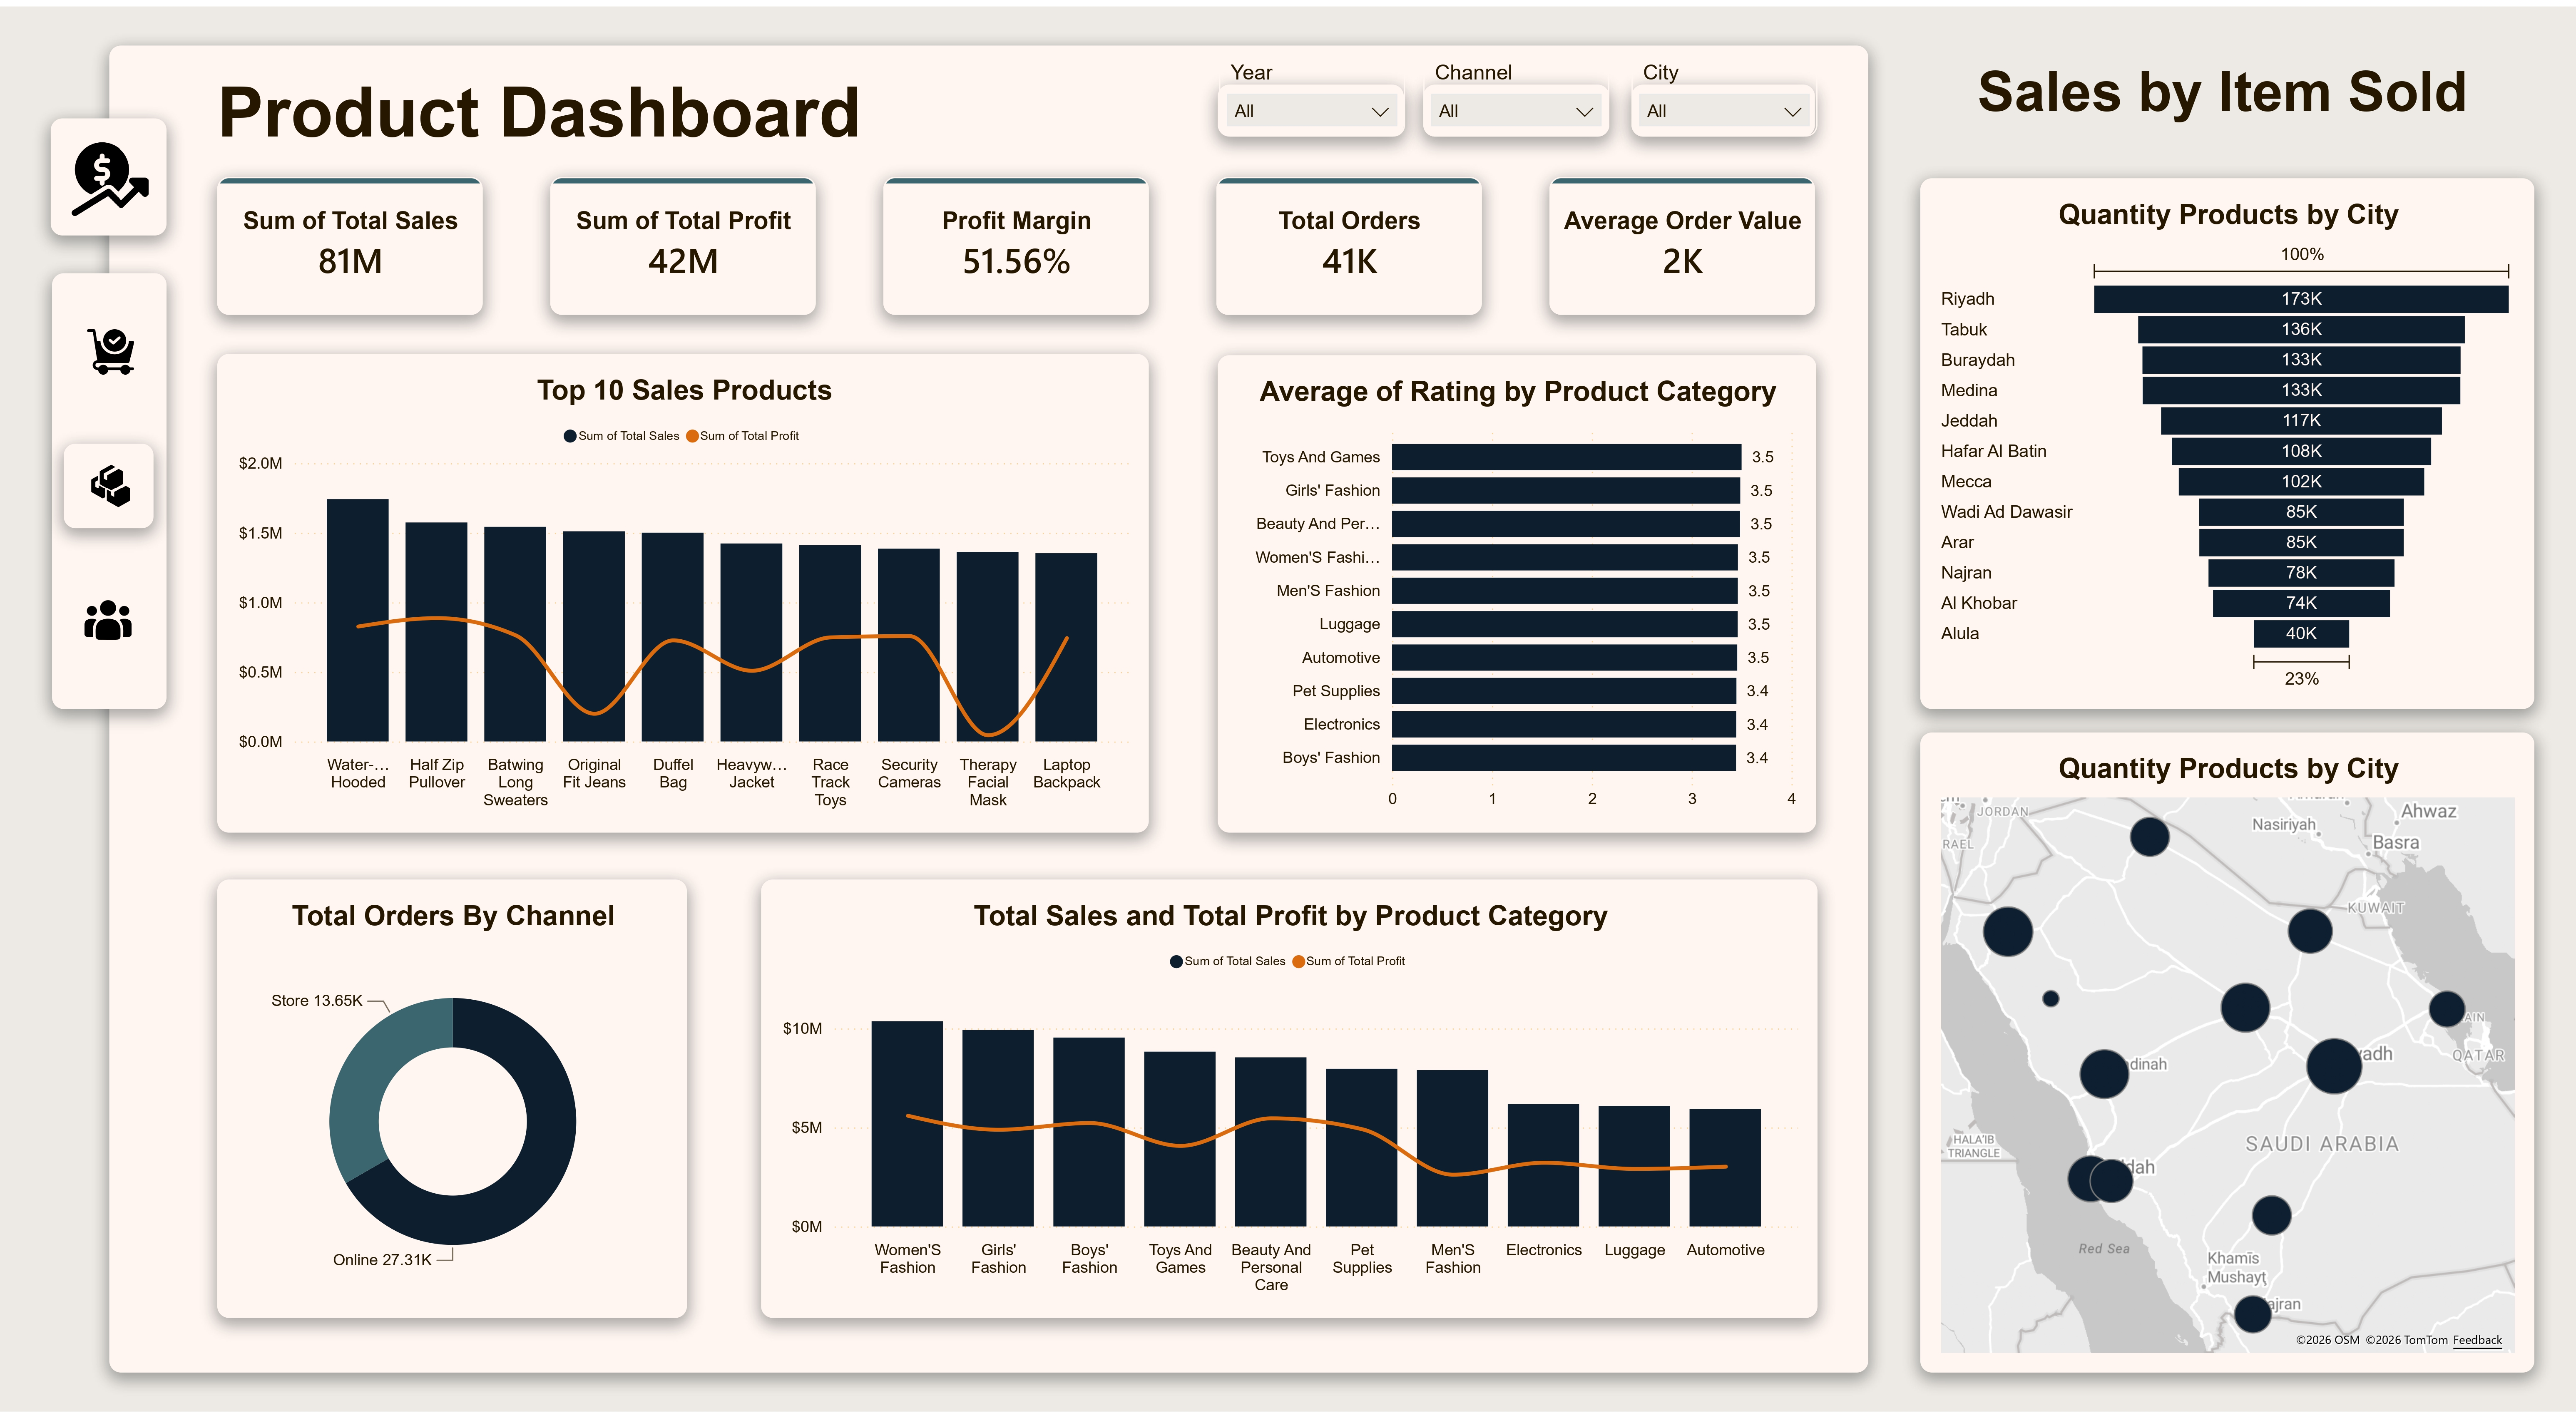

The dashboard page shown, as its layout file describes it:
{"tool":"powerbi","page":{"name":"Product Dashboard","canvas":[1980,1080],"ordinal":1},"visuals":[{"type":"shape","box":[84,30,1352,1020],"z":0},{"type":"shape","box":[39.4,86.4,88.9,90.2],"z":1000},{"type":"shape","box":[40,205.5,88.1,334.9],"z":2000},{"type":"shape","box":[935.7,60,142.9,40],"z":3000},{"type":"shape","box":[1254.3,60,141.4,40],"z":4000},{"type":"funnel","title":"Quantity Products by City","fields":{"Category":["Sales Database.City"],"Y":["Sum(Sales Database.Quantity)"]},"box":[1475.7,132.1,472.3,408.3],"z":5000},{"type":"clusteredBarChart","fields":{"Category":["Products Database.Product Category"],"Y":["Avg(Sales Database.Rating)"]},"box":[936.4,268.1,460,367.2],"z":6000},{"type":"donutChart","title":"Total Orders By Channel","fields":{"Category":["Sales Database.Channel"],"Y":["Count(Sales Database.Invoice ID)"]},"box":[167,671,361.1,337],"z":7000},{"type":"lineClusteredColumnComboChart","title":"Total Sales and Total Profit by Product Category","fields":{"Category":["Products Database.Product Category"],"Y":["Sum(Sales Database.Total Sales)"],"Y2":["Sum(Sales Database.Total Profit)"]},"box":[585.3,671,812.5,337],"z":8000},{"type":"cardVisual","fields":{"Data":["Sum(Sales Database.Total Sales)"]},"box":[167.1,131.4,204.3,105.7],"z":9000},{"type":"cardVisual","fields":{"Data":["Meashers.Average Order Value"]},"box":[1191.4,131.4,204.3,105.7],"z":10000},{"type":"cardVisual","fields":{"Data":["Sum(Sales Database.Total Profit)"]},"box":[423.2,131.4,204.3,105.7],"z":11000},{"type":"cardVisual","fields":{"Data":["Meashers.Profit Margin"]},"box":[679.3,131.4,204.3,105.7],"z":12000},{"type":"cardVisual","fields":{"Data":["Meashers.Total Orders"]},"box":[935.4,131.4,204.3,105.7],"z":13000},{"type":"azureMap","title":"Quantity Products by City","fields":{"Category":["Sales Database.City"],"Size":["Sum(Sales Database.Quantity)"]},"box":[1475.7,557.7,472.3,492.3],"z":14000},{"type":"image","box":[40,87.1,88.6,88.6],"z":15000},{"type":"shape","box":[49.4,336.2,69.4,65.4],"z":16000},{"type":"image","box":[50.7,233.5,68,65.4],"z":17000},{"type":"image","box":[50.7,336.2,68,65.4],"z":18000},{"type":"image","box":[49.4,439,68,65.4],"z":19000},{"type":"shape","box":[1094.1,60,142.8,40],"z":20000},{"type":"slicer","fields":{"Values":["Sales Database.City"]},"box":[1254.2,41.4,142.8,58.7],"z":21000},{"type":"slicer","fields":{"Values":["Sales Database.Invoice Date.Variation.Date Hierarchy.Year"]},"box":[936.6,41.4,142.8,58.7],"z":22000},{"type":"slicer","fields":{"Values":["Sales Database.Channel"]},"box":[1094.1,41.4,142.8,58.7],"z":23000},{"type":"textbox","box":[166.8,50.7,503,72],"z":24000},{"type":"textbox","box":[1519.6,40.6,383.7,66.2],"z":25000},{"type":"lineClusteredColumnComboChart","title":"Top 10 Sales Products","fields":{"Category":["Products Database.Product Name"],"Y":["Sum(Sales Database.Total Sales)"],"Y2":["Sum(Sales Database.Total Profit)"]},"box":[166.8,266.8,716.5,368.2],"z":26000}]}

Visuals, with their boxes in screenshot pixels (x1, y1, x2, y2), scaled from the page's 1980x1080 canvas onto the 2576x1418 screenshot:
shape: [left=109, top=40, right=1868, bottom=1378]
shape: [left=51, top=114, right=167, bottom=232]
shape: [left=52, top=270, right=167, bottom=710]
shape: [left=1217, top=79, right=1403, bottom=131]
shape: [left=1632, top=79, right=1816, bottom=131]
"Quantity Products by City" funnel: [left=1920, top=174, right=2534, bottom=710]
clusteredBarChart - Products Database.Product Category x Avg(Sales Database.Rating): [left=1218, top=352, right=1817, bottom=834]
"Total Orders By Channel" donutChart: [left=217, top=881, right=687, bottom=1324]
"Total Sales and Total Profit by Product Category" lineClusteredColumnComboChart: [left=761, top=881, right=1818, bottom=1324]
cardVisual - Sum(Sales Database.Total Sales): [left=217, top=173, right=483, bottom=311]
cardVisual - Meashers.Average Order Value: [left=1550, top=173, right=1816, bottom=311]
cardVisual - Sum(Sales Database.Total Profit): [left=551, top=173, right=816, bottom=311]
cardVisual - Meashers.Profit Margin: [left=884, top=173, right=1149, bottom=311]
cardVisual - Meashers.Total Orders: [left=1217, top=173, right=1483, bottom=311]
"Quantity Products by City" azureMap: [left=1920, top=732, right=2534, bottom=1378]
image: [left=52, top=114, right=167, bottom=231]
shape: [left=64, top=442, right=154, bottom=527]
image: [left=66, top=307, right=154, bottom=392]
image: [left=66, top=442, right=154, bottom=527]
image: [left=64, top=576, right=153, bottom=662]
shape: [left=1423, top=79, right=1609, bottom=131]
slicer - Sales Database.City: [left=1632, top=55, right=1818, bottom=132]
slicer - Sales Database.Invoice Date.Variation.Date Hierarchy.Year: [left=1218, top=55, right=1404, bottom=132]
slicer - Sales Database.Channel: [left=1423, top=55, right=1609, bottom=132]
textbox: [left=217, top=67, right=871, bottom=161]
textbox: [left=1977, top=53, right=2476, bottom=140]
"Top 10 Sales Products" lineClusteredColumnComboChart: [left=217, top=350, right=1149, bottom=834]
